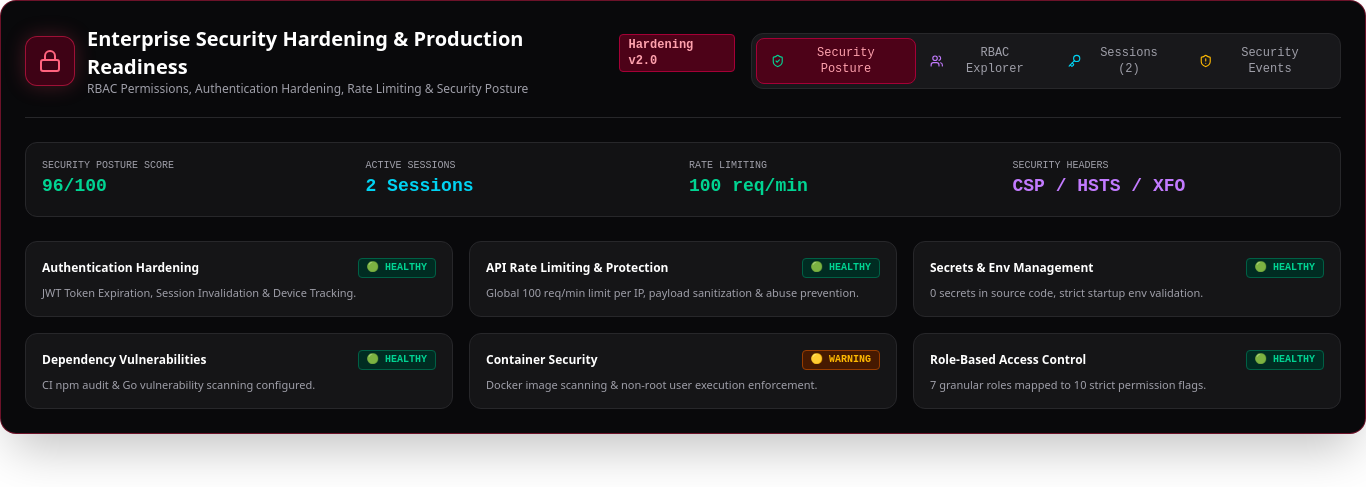
Scenario: SecurityHardeningDashboard Component › switches to Sessions tab
Expected: the heading "Enterprise Security Hardening & Production Readiness" is shown, [87,25,523,80]
Step 1. Click the button "Sessions (2)" → [1119, 61], box [1054,39,1184,83]
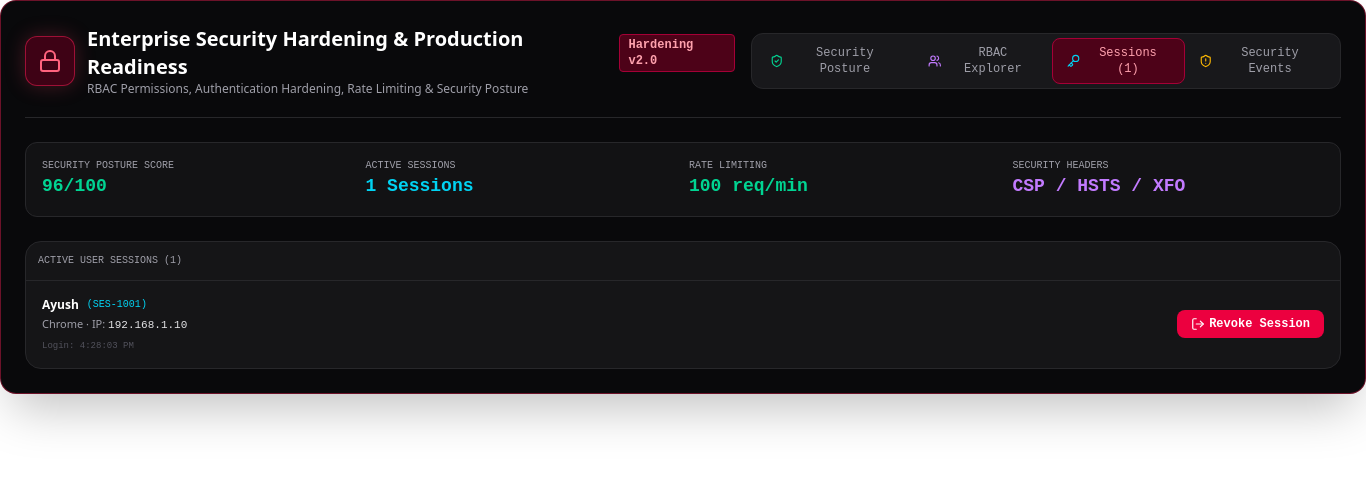
Expected: the text "Active User Sessions (1)" is shown, [26,242,1340,281]
